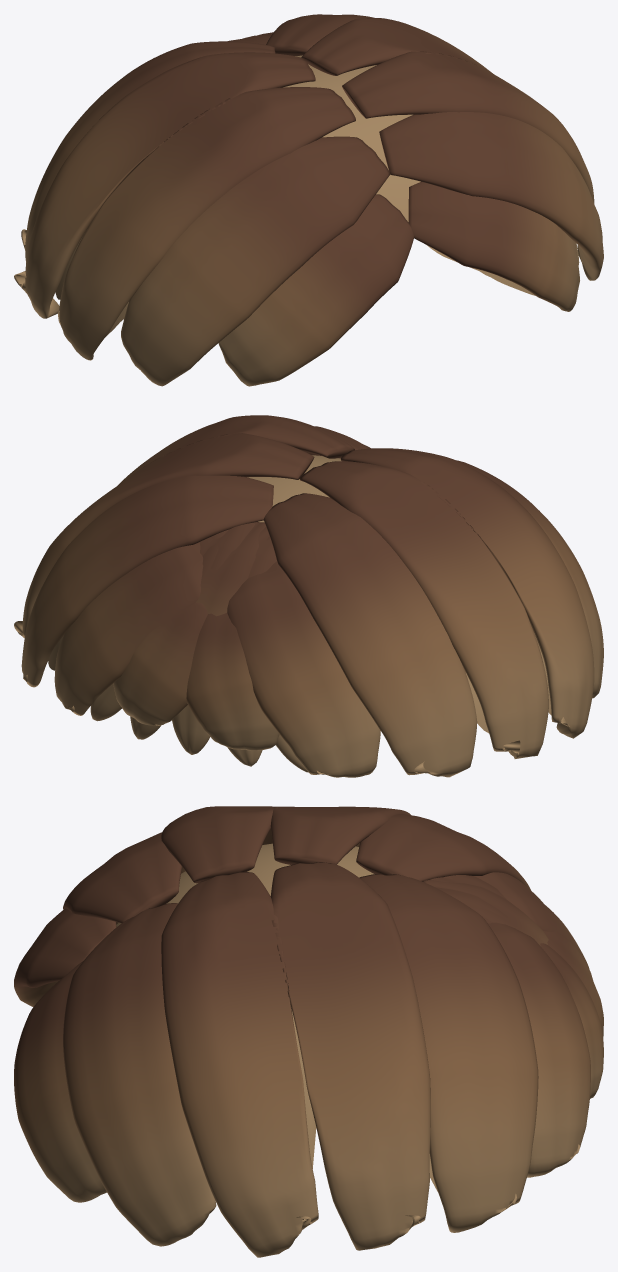
The model's file is Masculine-middle-part-pashmina261-hair-ombre.glb.
3 views of the same model, one above another, from view 1: azimuth 30°, elevation 25°; view 2: azimuth 150°, elevation 25°; view 3: azimuth 270°, elevation 25° (orthographic). The views are drawn at different scales.
Visible parts, largest first — view 1: 226 hair / Hair260 / layered middle-part; view 2: 226 hair / Hair260 / layered middle-part; view 3: 226 hair / Hair260 / layered middle-part.
Boxes of the visible parts, x1,y1,x2,y2 form: 226 hair / Hair260 / layered middle-part: (14,14,603,386); 226 hair / Hair260 / layered middle-part: (14,415,603,777); 226 hair / Hair260 / layered middle-part: (14,806,603,1257).
Bounding box in the file's own units: 1.03 × 0.4506 × 0.8741.
